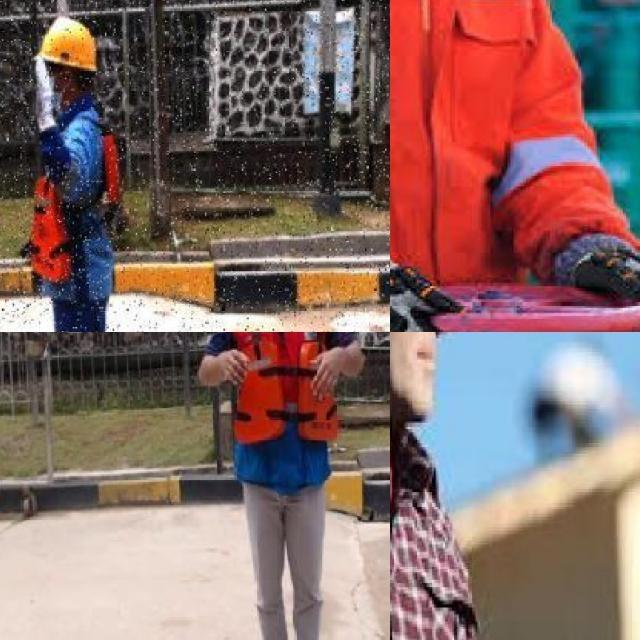apron: (390, 233, 493, 332), (559, 224, 640, 332), (32, 59, 59, 138)
